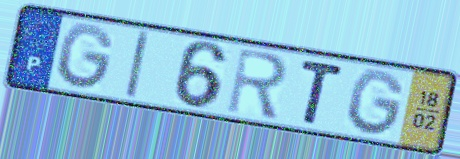6: (170, 40, 230, 112)
G: (55, 21, 117, 94), (345, 67, 407, 140)
I: (122, 28, 153, 102)
R: (223, 45, 290, 122)
T: (297, 57, 347, 128)
